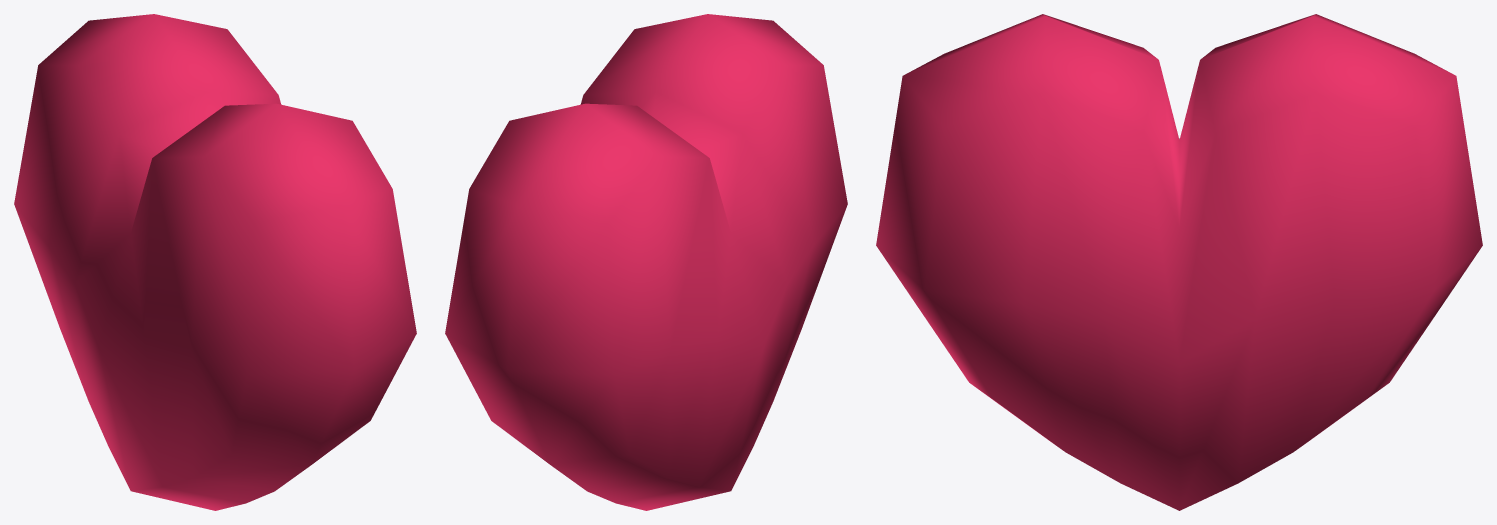
The model's file is heart_shape_2.fbx.
3 views of the same model, side by side, from view 1: azimuth 30°, elevation 25°; view 2: azimuth 150°, elevation 25°; view 3: azimuth 270°, elevation 25° (orthographic). The views are drawn at different scales.
Parts seen in each view (by area): view 1: Cube; view 2: Cube; view 3: Cube.
Part boxes in pixels (x1,y1,x2,y2): Cube: (14, 14, 416, 510); Cube: (445, 14, 847, 510); Cube: (876, 14, 1482, 510).
Size of the model in its own units: 139 by 257 by 286.
